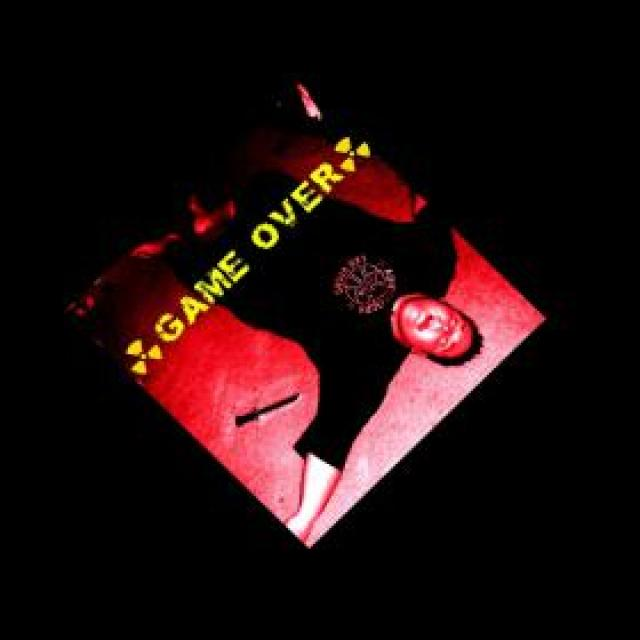knife: (228, 380, 308, 434)
